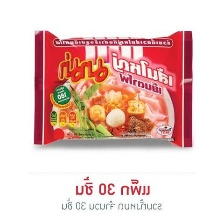snack: (26, 23, 199, 155)
